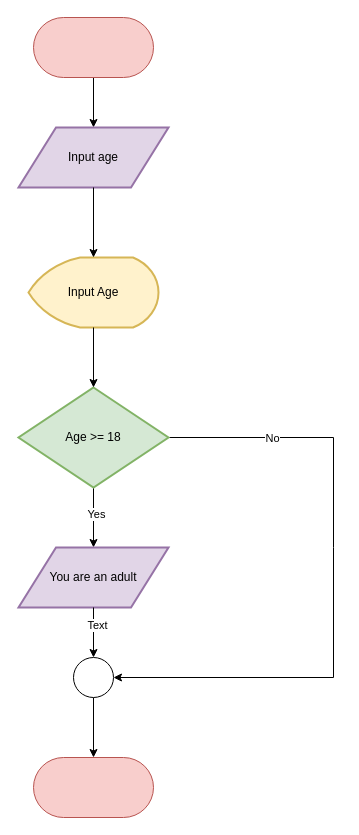
This 359x835 diagram has some shape labels left out. Each missing label, with the centre of its shape:
"End" goes at point 93,787.
"Start" goes at point 93,47.
